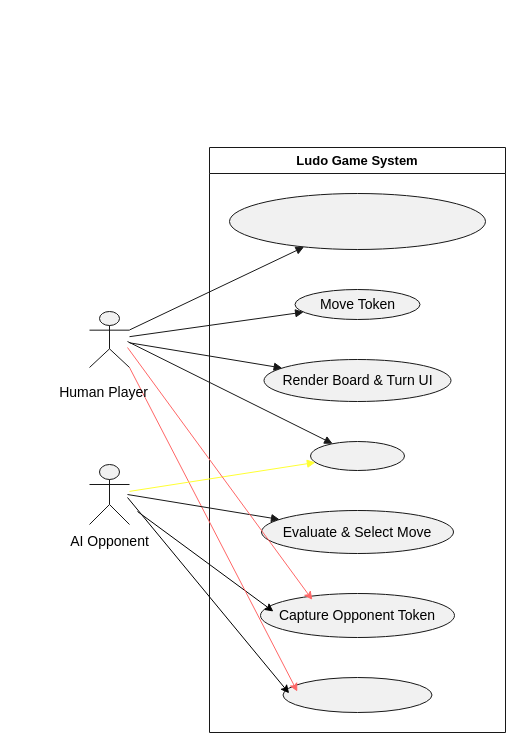
The diagram is 523 pixels wide and 750 high, and some of its shapes have lost their labels. Here are the shapes that lost their labels. From the top down, the centre of each, then its label:
At (357,221): "Select Game Mode (PvP or PvAI)".
At (357,455): "Roll Dice".
At (357,694): "Enter Home Yard".
